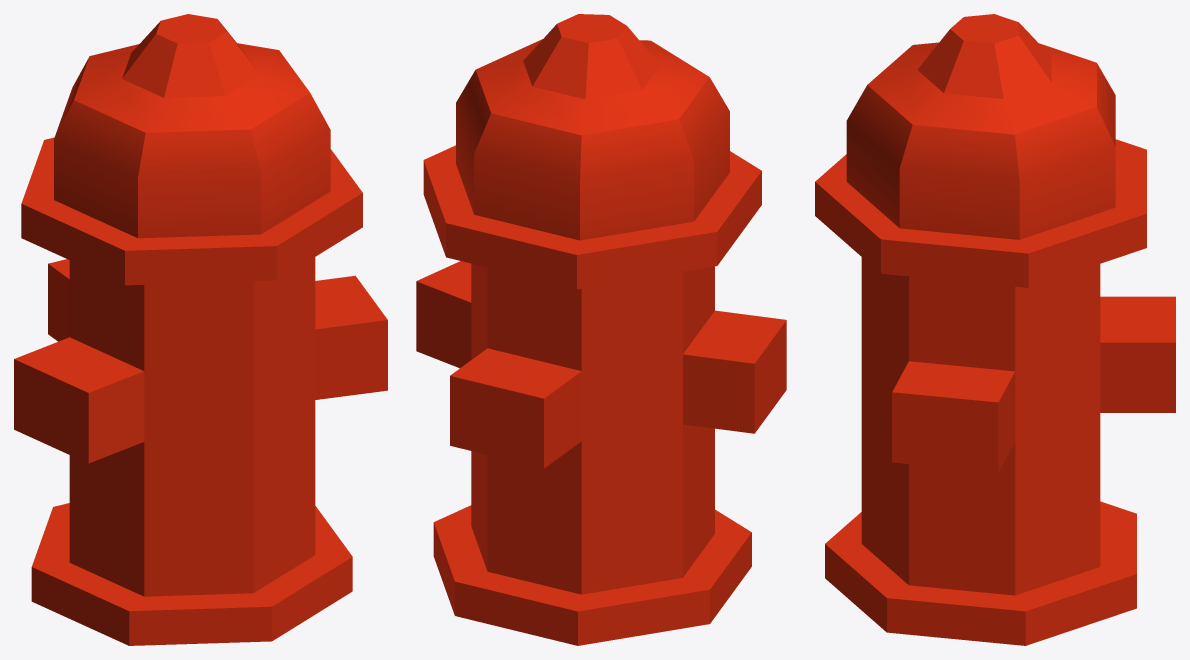
Rendered from water pump.fbx.
The picture shows the model from 3 angles, left to right: view 1: azimuth 30°, elevation 25°; view 2: azimuth 150°, elevation 25°; view 3: azimuth 270°, elevation 25°; orthographic projection.
Visible parts, largest first — view 1: water_pump; view 2: water_pump; view 3: water_pump.
Part boxes in pixels (x1=…): water_pump: x1=14, y1=14, x2=387, y2=645; water_pump: x1=416, y1=14, x2=786, y2=645; water_pump: x1=815, y1=14, x2=1175, y2=645.
Size of the model in its own units: 72.83 by 113 by 67.02.
